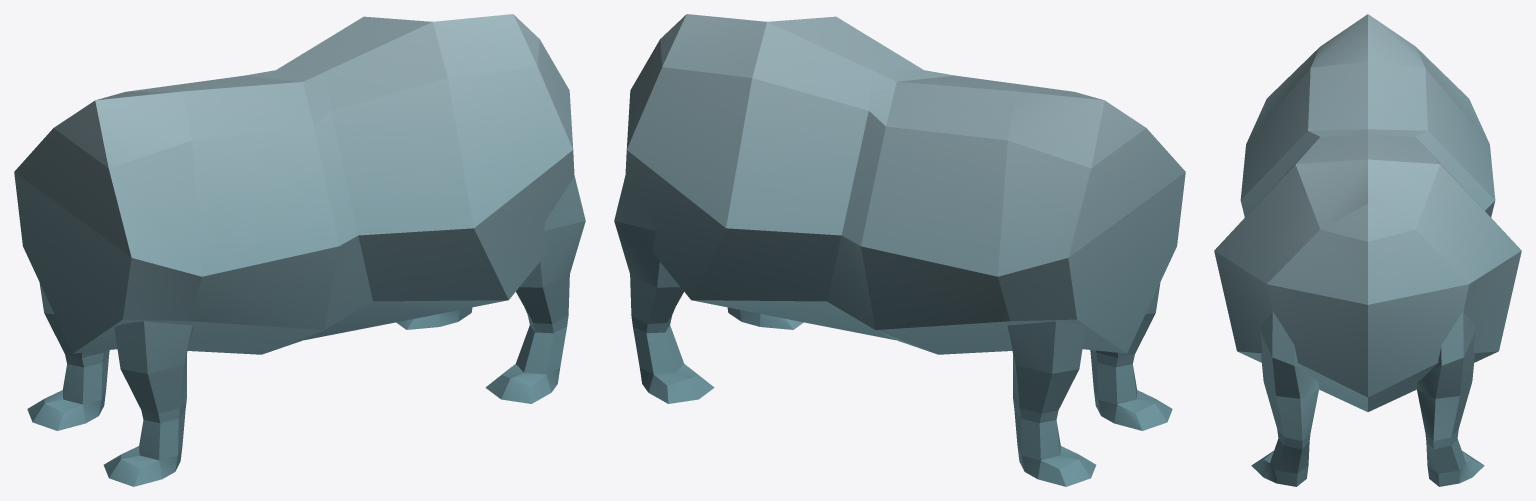
File: SM_Hippo_Body.fbx
The picture shows the model from 3 angles, left to right: view 1: azimuth 30°, elevation 25°; view 2: azimuth 150°, elevation 25°; view 3: azimuth 270°, elevation 25°; orthographic projection. The views are drawn at different scales.
Visible parts, largest first — view 1: SM_Hippo_Body; view 2: SM_Hippo_Body; view 3: SM_Hippo_Body.
Part boxes in pixels (x1=…): SM_Hippo_Body: x1=14, y1=14, x2=585, y2=486; SM_Hippo_Body: x1=614, y1=14, x2=1185, y2=486; SM_Hippo_Body: x1=1214, y1=14, x2=1521, y2=486.
Size of the model in its own units: 62.06 by 40.98 by 38.47.
